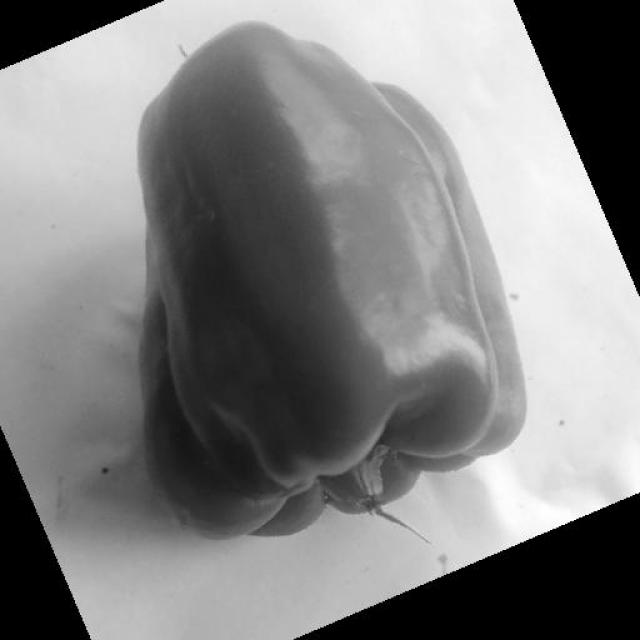Fresh_Capsicum: (113, 66, 476, 494)
